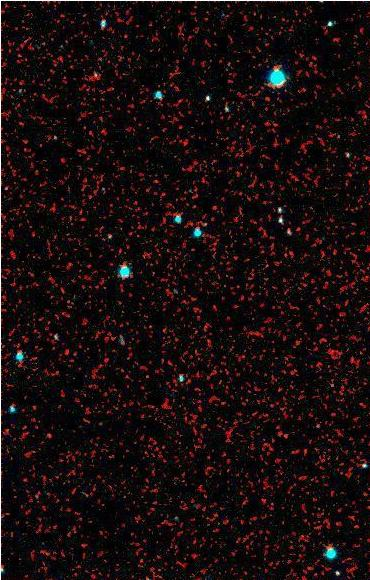star: (35, 419, 65, 449)
